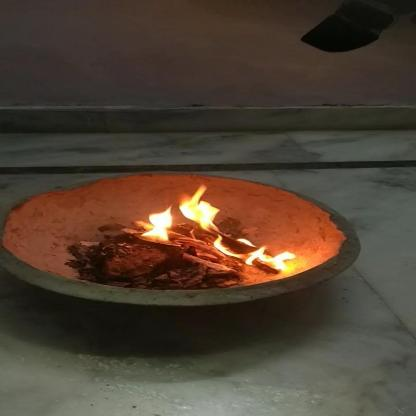fire: (134, 186, 291, 272)
